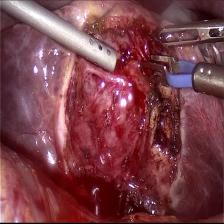Bipolar: (139, 49, 224, 101)
Grasper: (158, 21, 224, 49)
Irrigator: (78, 27, 119, 75)
